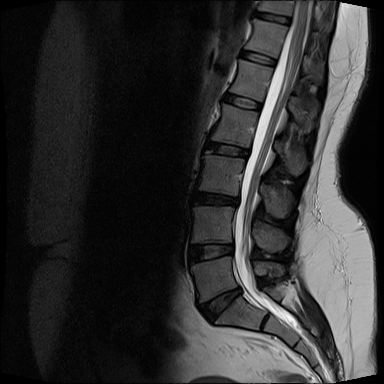Lumbar Disc Bulge (LDB): (193, 282, 247, 329), (183, 237, 239, 270), (189, 187, 242, 211)
Normal IVD: (216, 87, 266, 115), (201, 136, 254, 161), (236, 46, 280, 72), (250, 8, 294, 28)
Spinal Stenosis (SS): (230, 278, 247, 303), (231, 193, 246, 214), (225, 238, 238, 261)
